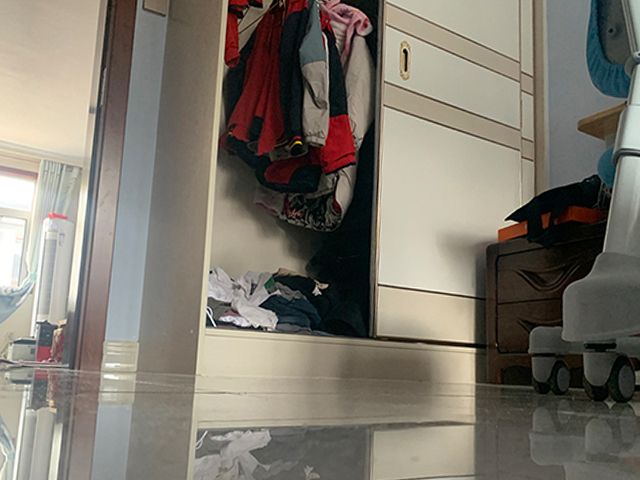cabinet: (137, 1, 547, 382), (486, 222, 598, 384)
